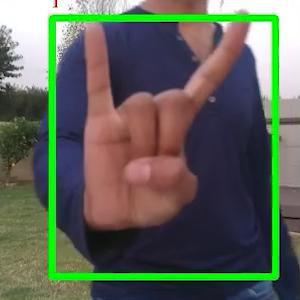takeoff-hand: (77, 10, 259, 247)
